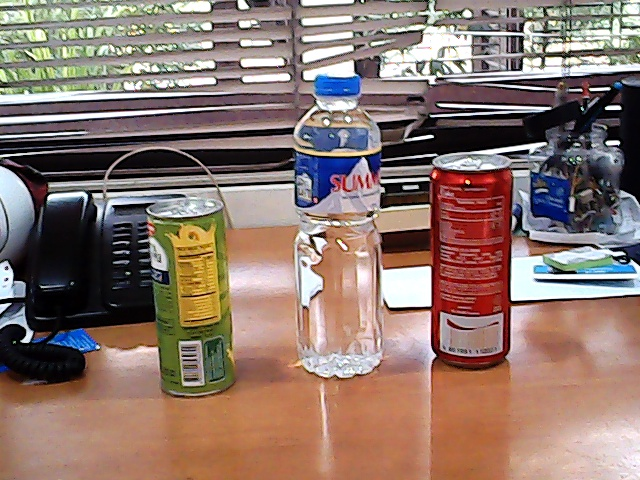Cola: (425, 153, 523, 376)
Pine Juice: (155, 199, 237, 404)
Summit Water: (292, 66, 387, 383)
